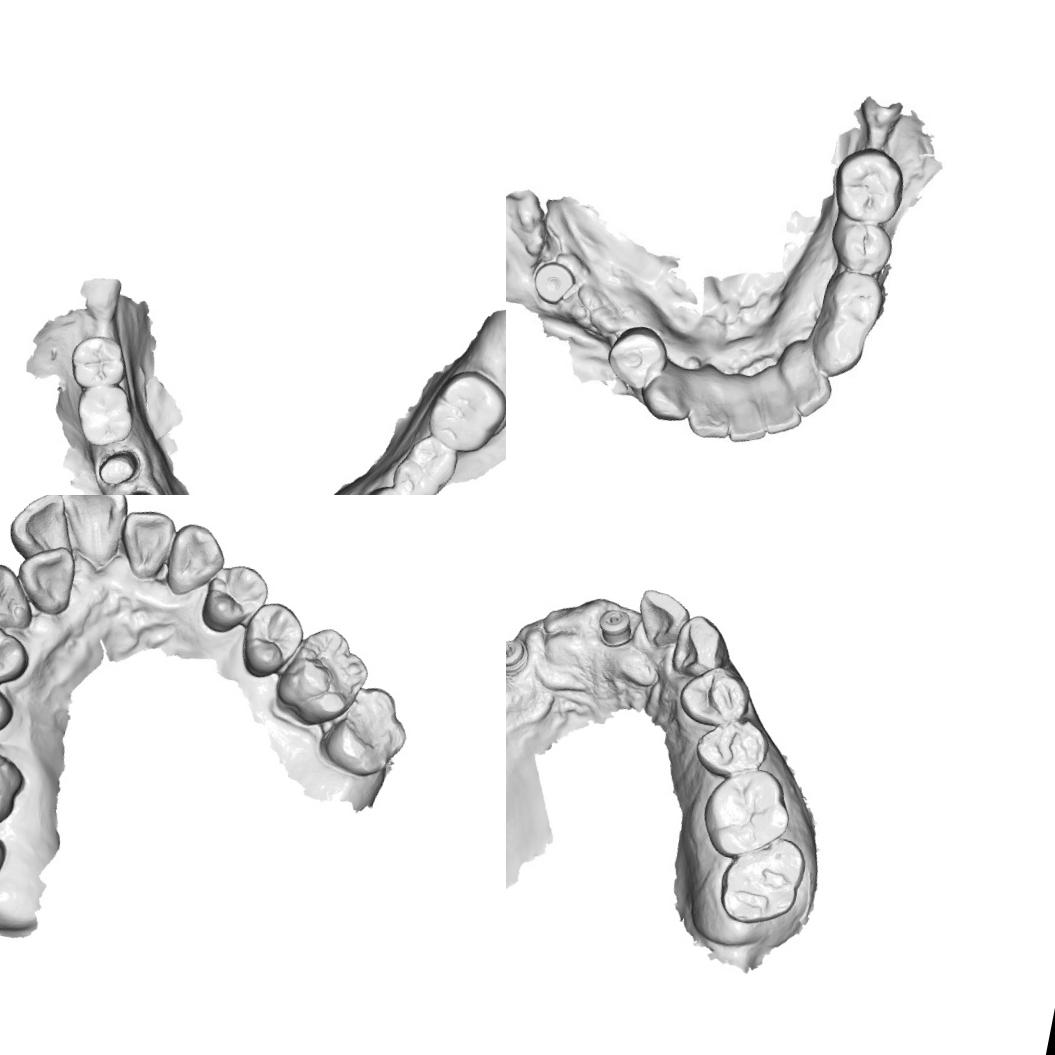canine: (158, 517, 234, 604), (665, 609, 734, 686), (808, 312, 869, 378), (639, 365, 697, 428), (0, 557, 43, 636)
crown: (92, 442, 142, 494), (109, 484, 157, 495)
implant: (526, 256, 584, 311)
implant_minus: (588, 602, 636, 649), (506, 634, 534, 676)
incisor: (0, 495, 89, 585), (44, 495, 137, 578), (112, 497, 179, 584), (11, 540, 80, 618), (626, 584, 692, 652), (682, 375, 742, 444), (783, 356, 837, 421), (723, 384, 778, 447), (754, 376, 808, 440)
molar: (268, 616, 378, 736), (694, 758, 800, 869), (712, 826, 812, 934), (318, 678, 417, 783), (422, 363, 506, 458), (826, 142, 914, 230), (387, 426, 463, 495), (70, 378, 138, 452), (62, 326, 132, 395), (0, 730, 32, 836)
premolar: (194, 554, 273, 642), (234, 594, 307, 687), (690, 707, 776, 785), (672, 657, 758, 735), (818, 268, 895, 336), (602, 320, 672, 392), (831, 214, 898, 275), (0, 618, 33, 692), (0, 667, 18, 748), (356, 479, 421, 495)
